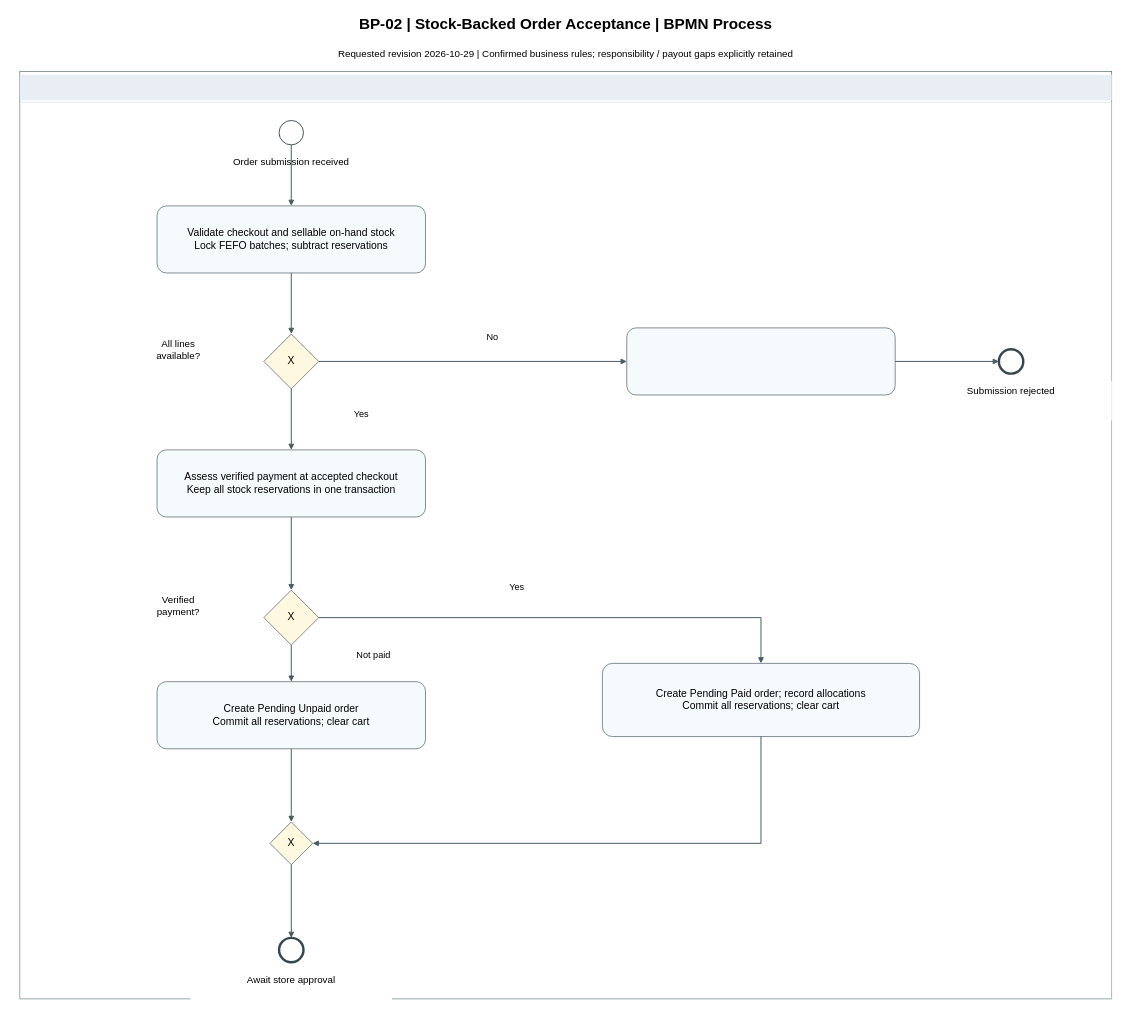
The diagram is 1131 pixels wide and 1019 high, and some of its shapes have lost their labels. Each missing label, with the centre of its shape:
"FreshFood System" goes at point 565,87.
"Reject entire submission No order or partial reservation committed" goes at point 760,361.
